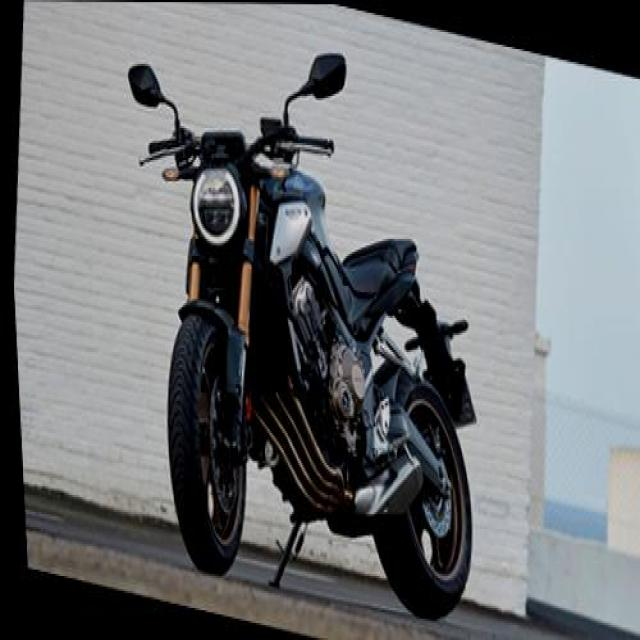CB650R: (85, 1, 508, 635)
